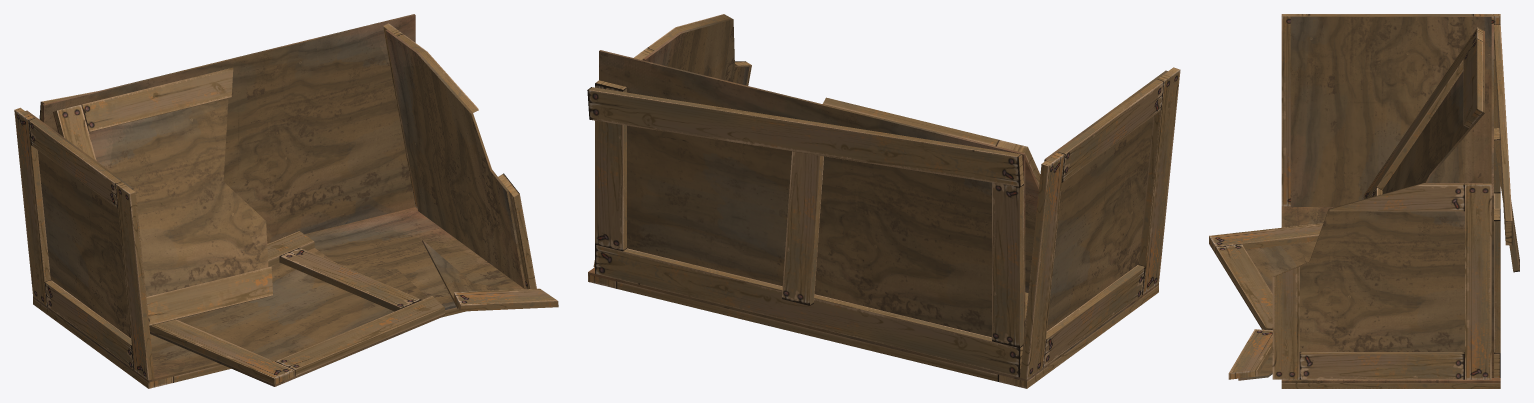
Rendered from crate05_B.fbx.
3 renders of one model, left to right at view 1: azimuth 30°, elevation 25°; view 2: azimuth 150°, elevation 25°; view 3: azimuth 270°, elevation 25°, orthographic. The views are drawn at different scales.
Visible parts, largest first — view 1: crate05_B; view 2: crate05_B; view 3: crate05_B.
Part boxes in pixels (x1=…): crate05_B: x1=14, y1=14, x2=558, y2=388; crate05_B: x1=587, y1=14, x2=1180, y2=388; crate05_B: x1=1209, y1=14, x2=1519, y2=388.
Bounding box in the file's own units: 197 × 94 × 139.
